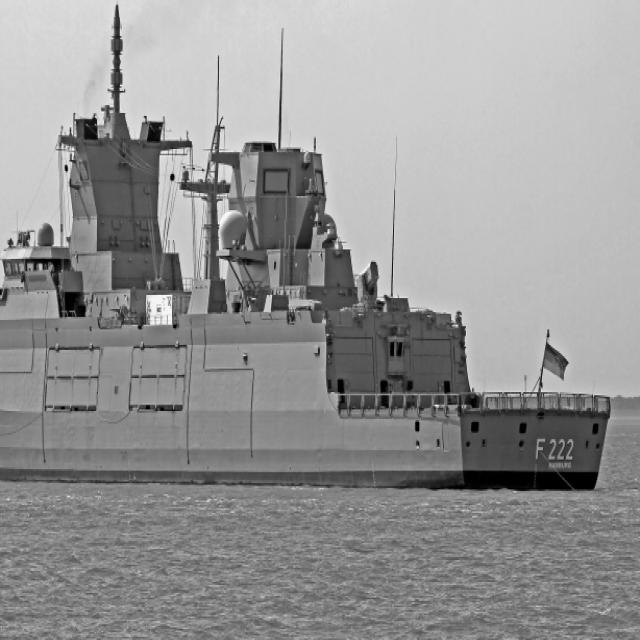Fragata: (1, 1, 612, 494)
